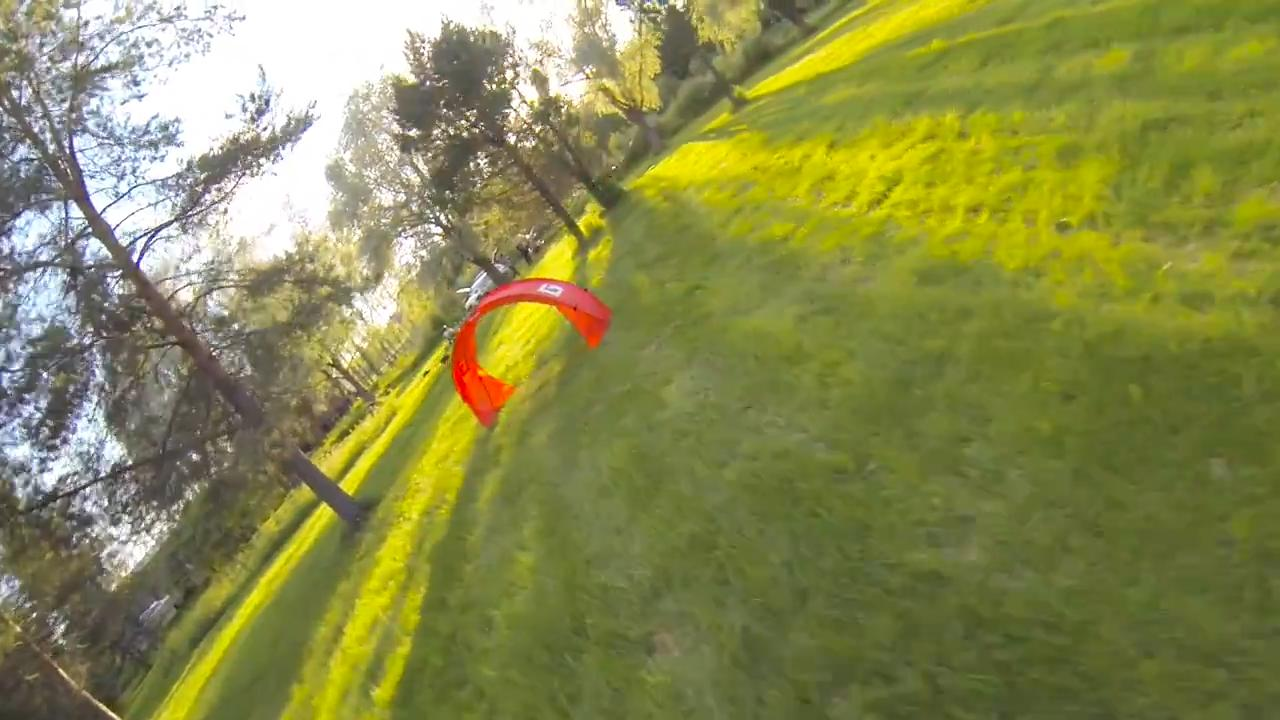gate: (448, 280, 610, 426)
